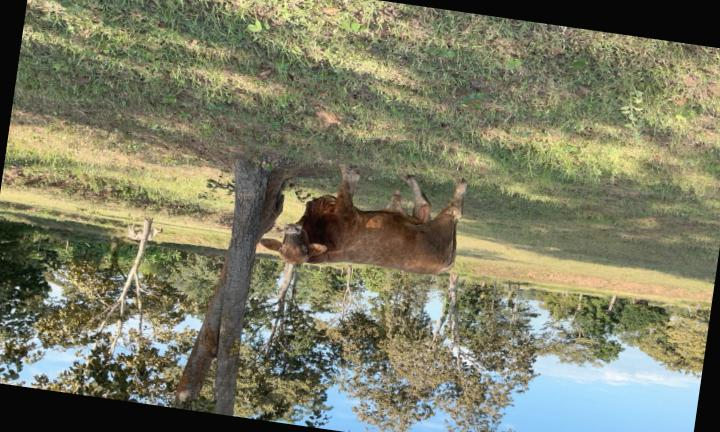Charolais: (261, 165, 466, 275)
